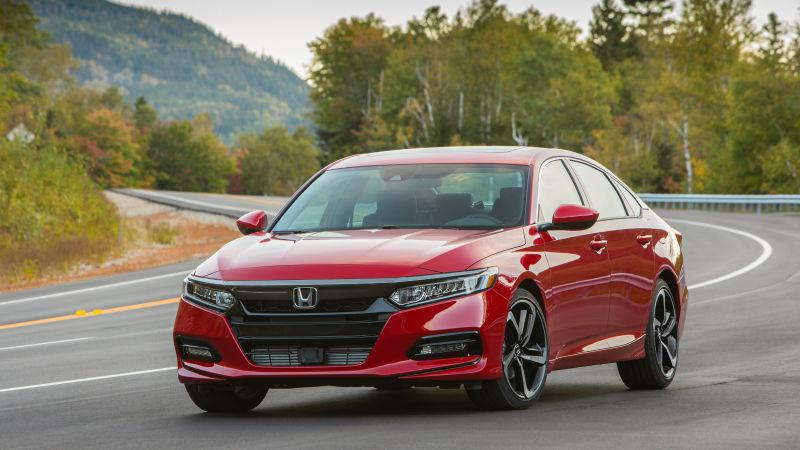car: (152, 140, 722, 421)
